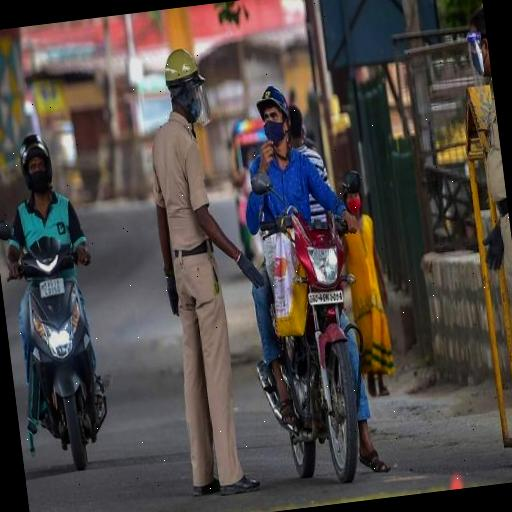helmet: (0, 113, 119, 485)
no helmet: (220, 56, 366, 483)
